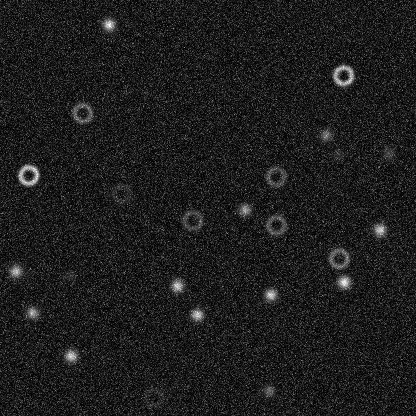Ring: (70, 100, 94, 124), (331, 63, 355, 87), (264, 212, 288, 236), (263, 164, 287, 188), (141, 385, 165, 409), (16, 163, 40, 187), (326, 246, 350, 270), (109, 181, 133, 205), (180, 208, 204, 232)
Spot: (61, 267, 77, 283), (188, 306, 204, 322), (169, 277, 185, 293), (24, 304, 40, 320), (260, 382, 276, 398), (330, 146, 346, 162), (380, 145, 396, 161), (100, 16, 116, 32), (371, 221, 387, 237), (335, 273, 351, 289), (262, 286, 278, 302), (317, 127, 333, 143), (62, 347, 78, 363), (7, 263, 23, 279), (236, 201, 252, 217)
